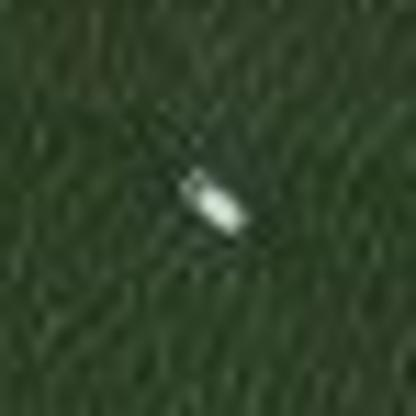ship: (164, 158, 256, 245)
